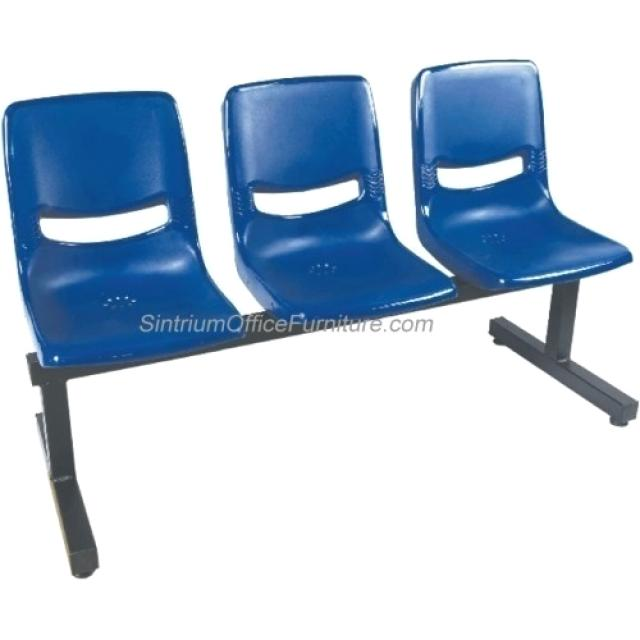Chair: (5, 57, 640, 582)
